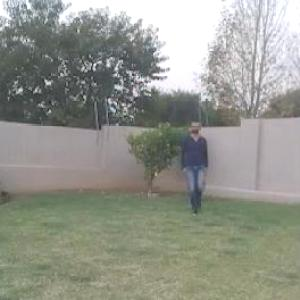follow: (181, 119, 209, 215)
